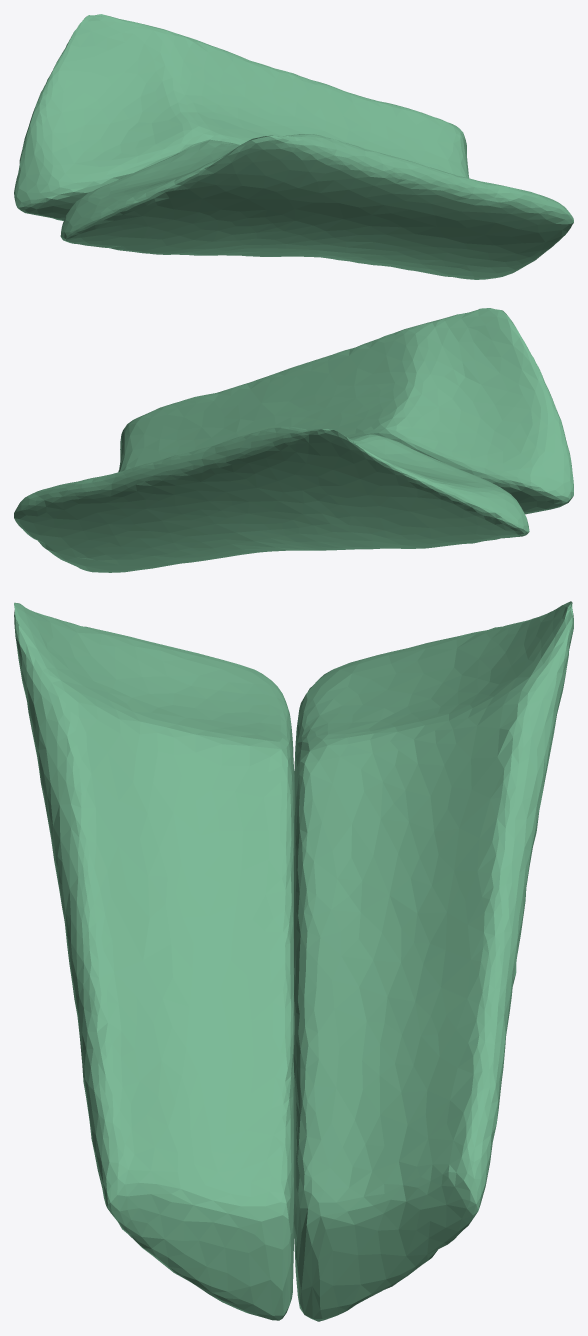
3 views of the same model, one above another, from view 1: azimuth 30°, elevation 25°; view 2: azimuth 150°, elevation 25°; view 3: azimuth 270°, elevation 25° (orthographic). The views are drawn at different scales.
Visible parts, largest first — view 1: 39.obj; view 2: 39.obj; view 3: 39.obj.
Part boxes in pixels (x1=…): 39.obj: x1=14, y1=14, x2=573, y2=279; 39.obj: x1=14, y1=308, x2=573, y2=572; 39.obj: x1=14, y1=601, x2=573, y2=1321.
Bounding box in the file's own units: 3703 × 2027 × 2224.
